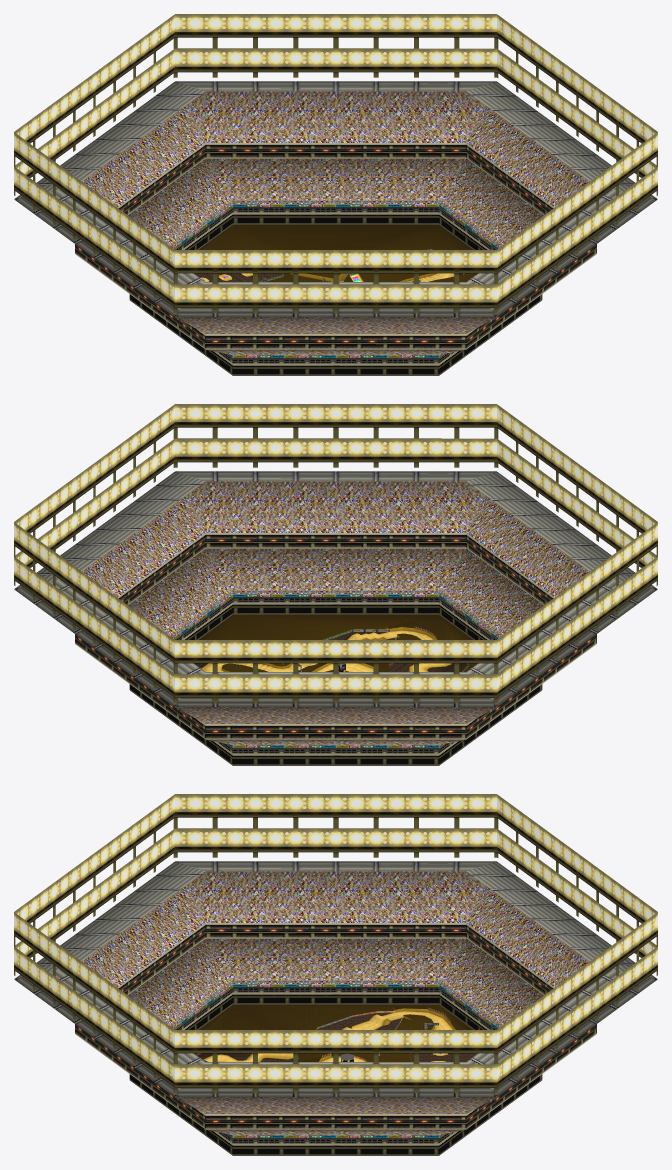
The model's file is stadium_course.glb.
The picture shows the model from 3 angles, top to bottom: view 1: azimuth 30°, elevation 25°; view 2: azimuth 150°, elevation 25°; view 3: azimuth 270°, elevation 25°; orthographic projection.
Parts seen in each view (by area): view 1: stadium_course; view 2: stadium_course; view 3: stadium_course.
Boxes of the visible parts, x1=… form: stadium_course: x1=14, y1=14, x2=657, y2=375; stadium_course: x1=14, y1=404, x2=657, y2=765; stadium_course: x1=14, y1=794, x2=657, y2=1155.
Size of the model in its own units: 647 by 221 by 747.
Materials: 14 (14 with a texture image).
